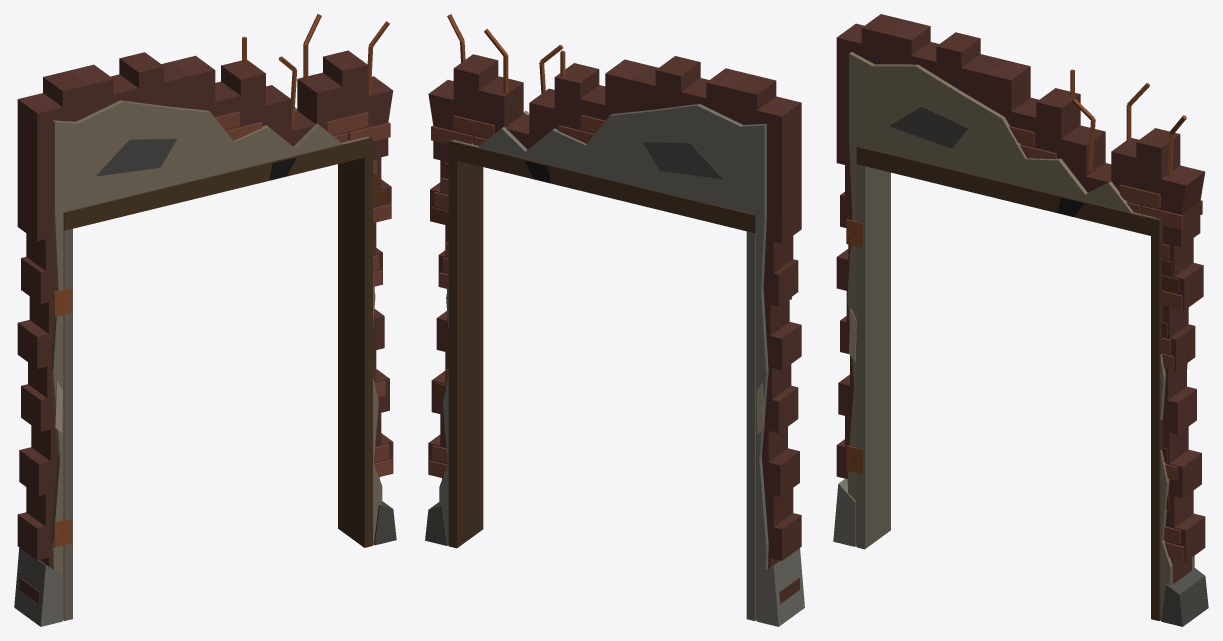
The model's file is ruin_doorway.fbx.
The picture shows the model from 3 angles, left to right: view 1: azimuth 30°, elevation 25°; view 2: azimuth 150°, elevation 25°; view 3: azimuth 330°, elevation 25°; orthographic projection.
Parts seen in each view (by area): view 1: ruin_doorway; view 2: ruin_doorway; view 3: ruin_doorway.
Part boxes in pixels (x1=…): ruin_doorway: x1=14, y1=14, x2=396, y2=626; ruin_doorway: x1=425, y1=14, x2=804, y2=626; ruin_doorway: x1=833, y1=14, x2=1208, y2=626.
Bounding box in the file's own units: 2.1 × 2.97 × 0.278.
